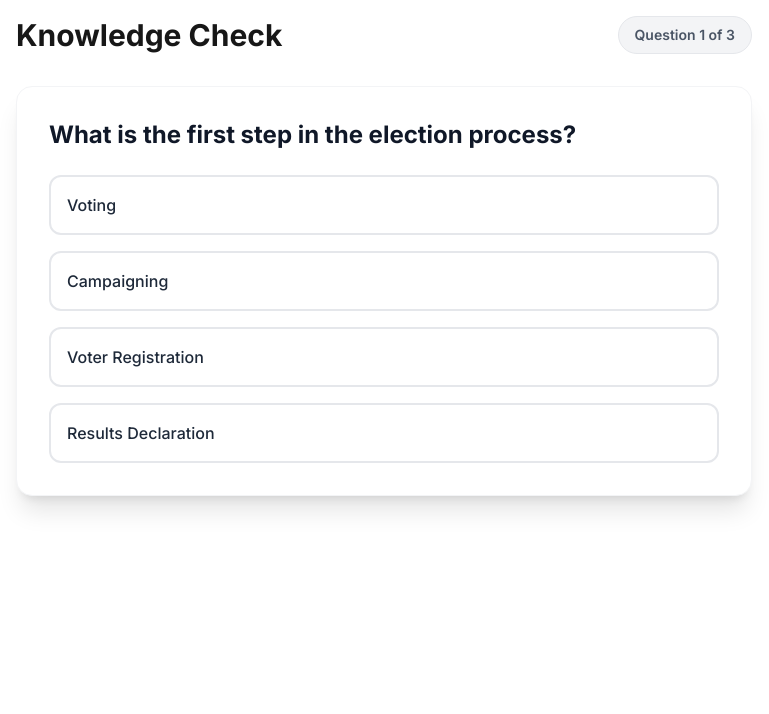
Test: Quiz Page & Components › 15. Next Question button appears after answering
The first question options are retrieved using the accessible radio role
Step 1. Click the radio button labelled "Voting" → coordinates (92, 205), box [49,175,719,235]
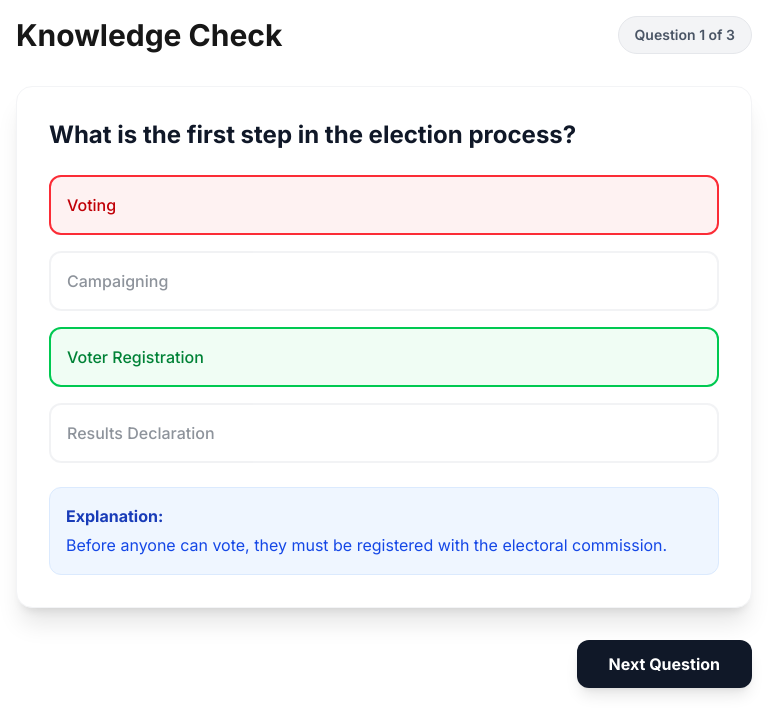
Now the button "Next Question" is shown, box [577,640,752,688]
